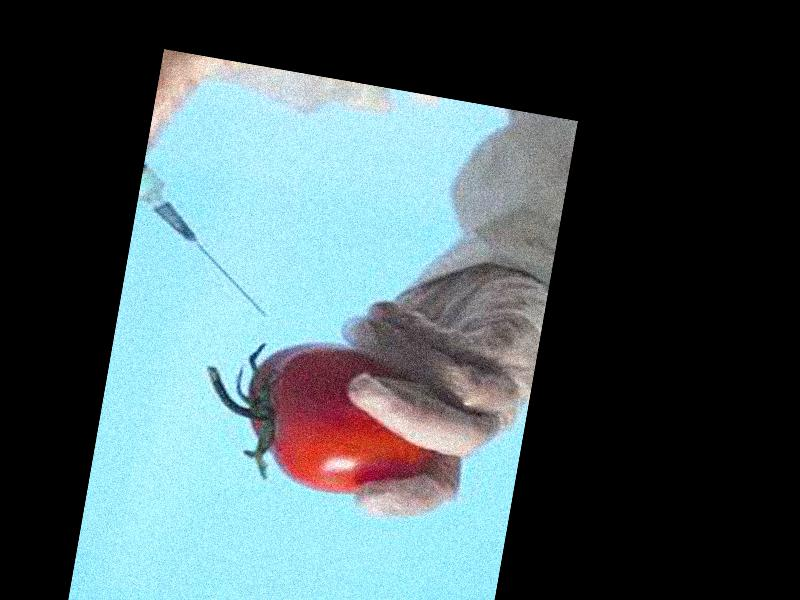Tomato: (234, 333, 449, 509)
